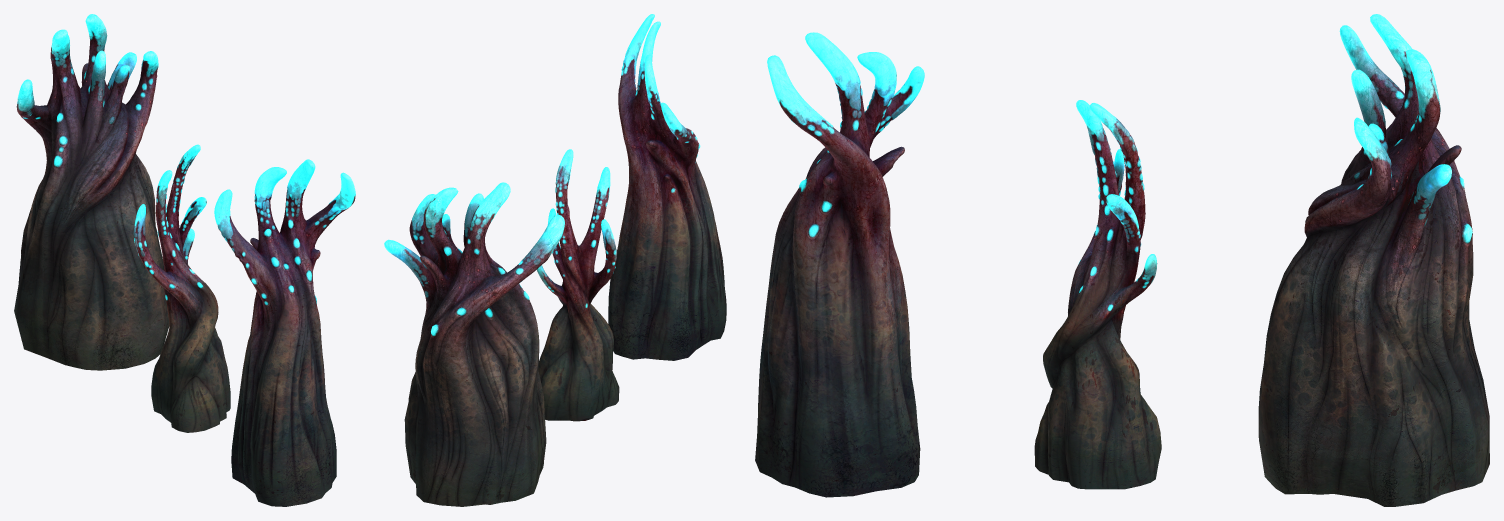
The model's file is crab claw kelp.fbx.
The picture shows the model from 3 angles, left to right: view 1: azimuth 30°, elevation 25°; view 2: azimuth 150°, elevation 25°; view 3: azimuth 270°, elevation 25°; orthographic projection. The views are drawn at different scales.
Parts seen in each view (by area): view 1: lost_river_plant_01_03, lost_river_plant_01_01, lost_river_plant_01_02; view 2: lost_river_plant_01_03, lost_river_plant_01_01, lost_river_plant_01_02; view 3: lost_river_plant_01_03, lost_river_plant_01_01, lost_river_plant_01_02.
Boxes of the visible parts, bbox=[...] form: lost_river_plant_01_03: bbox=[14, 14, 169, 370]; lost_river_plant_01_01: bbox=[214, 159, 355, 506]; lost_river_plant_01_02: bbox=[133, 144, 230, 432]; lost_river_plant_01_03: bbox=[384, 182, 564, 506]; lost_river_plant_01_01: bbox=[608, 14, 726, 360]; lost_river_plant_01_02: bbox=[537, 149, 619, 421]; lost_river_plant_01_03: bbox=[1258, 14, 1489, 506]; lost_river_plant_01_01: bbox=[755, 32, 924, 497]; lost_river_plant_01_02: bbox=[1034, 100, 1161, 489].
Size of the model in its own units: 384 by 789 by 1167.
